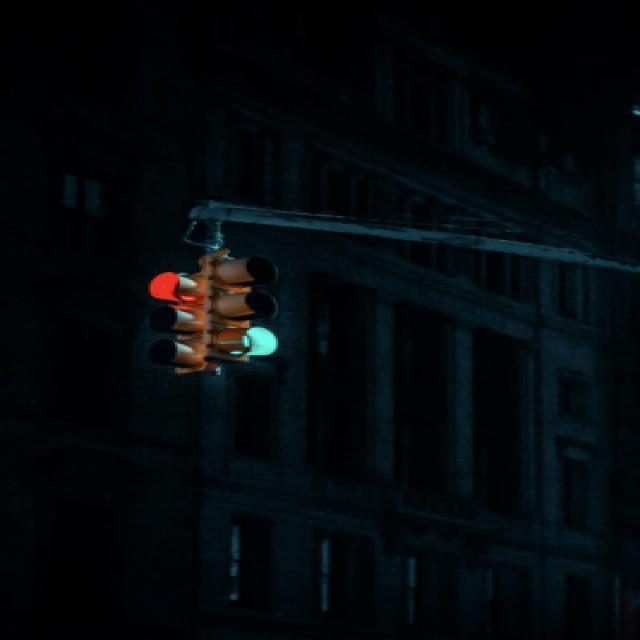trafficlight: (144, 258, 216, 372), (211, 250, 280, 360)
